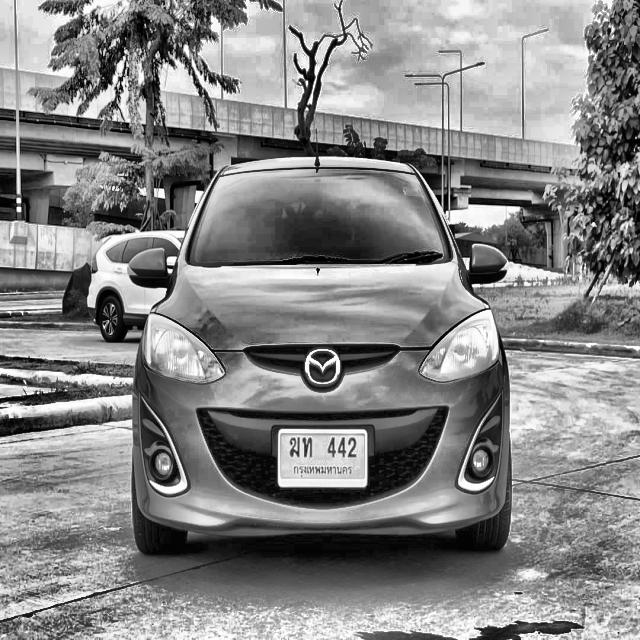license-plate: (269, 422, 375, 499)
